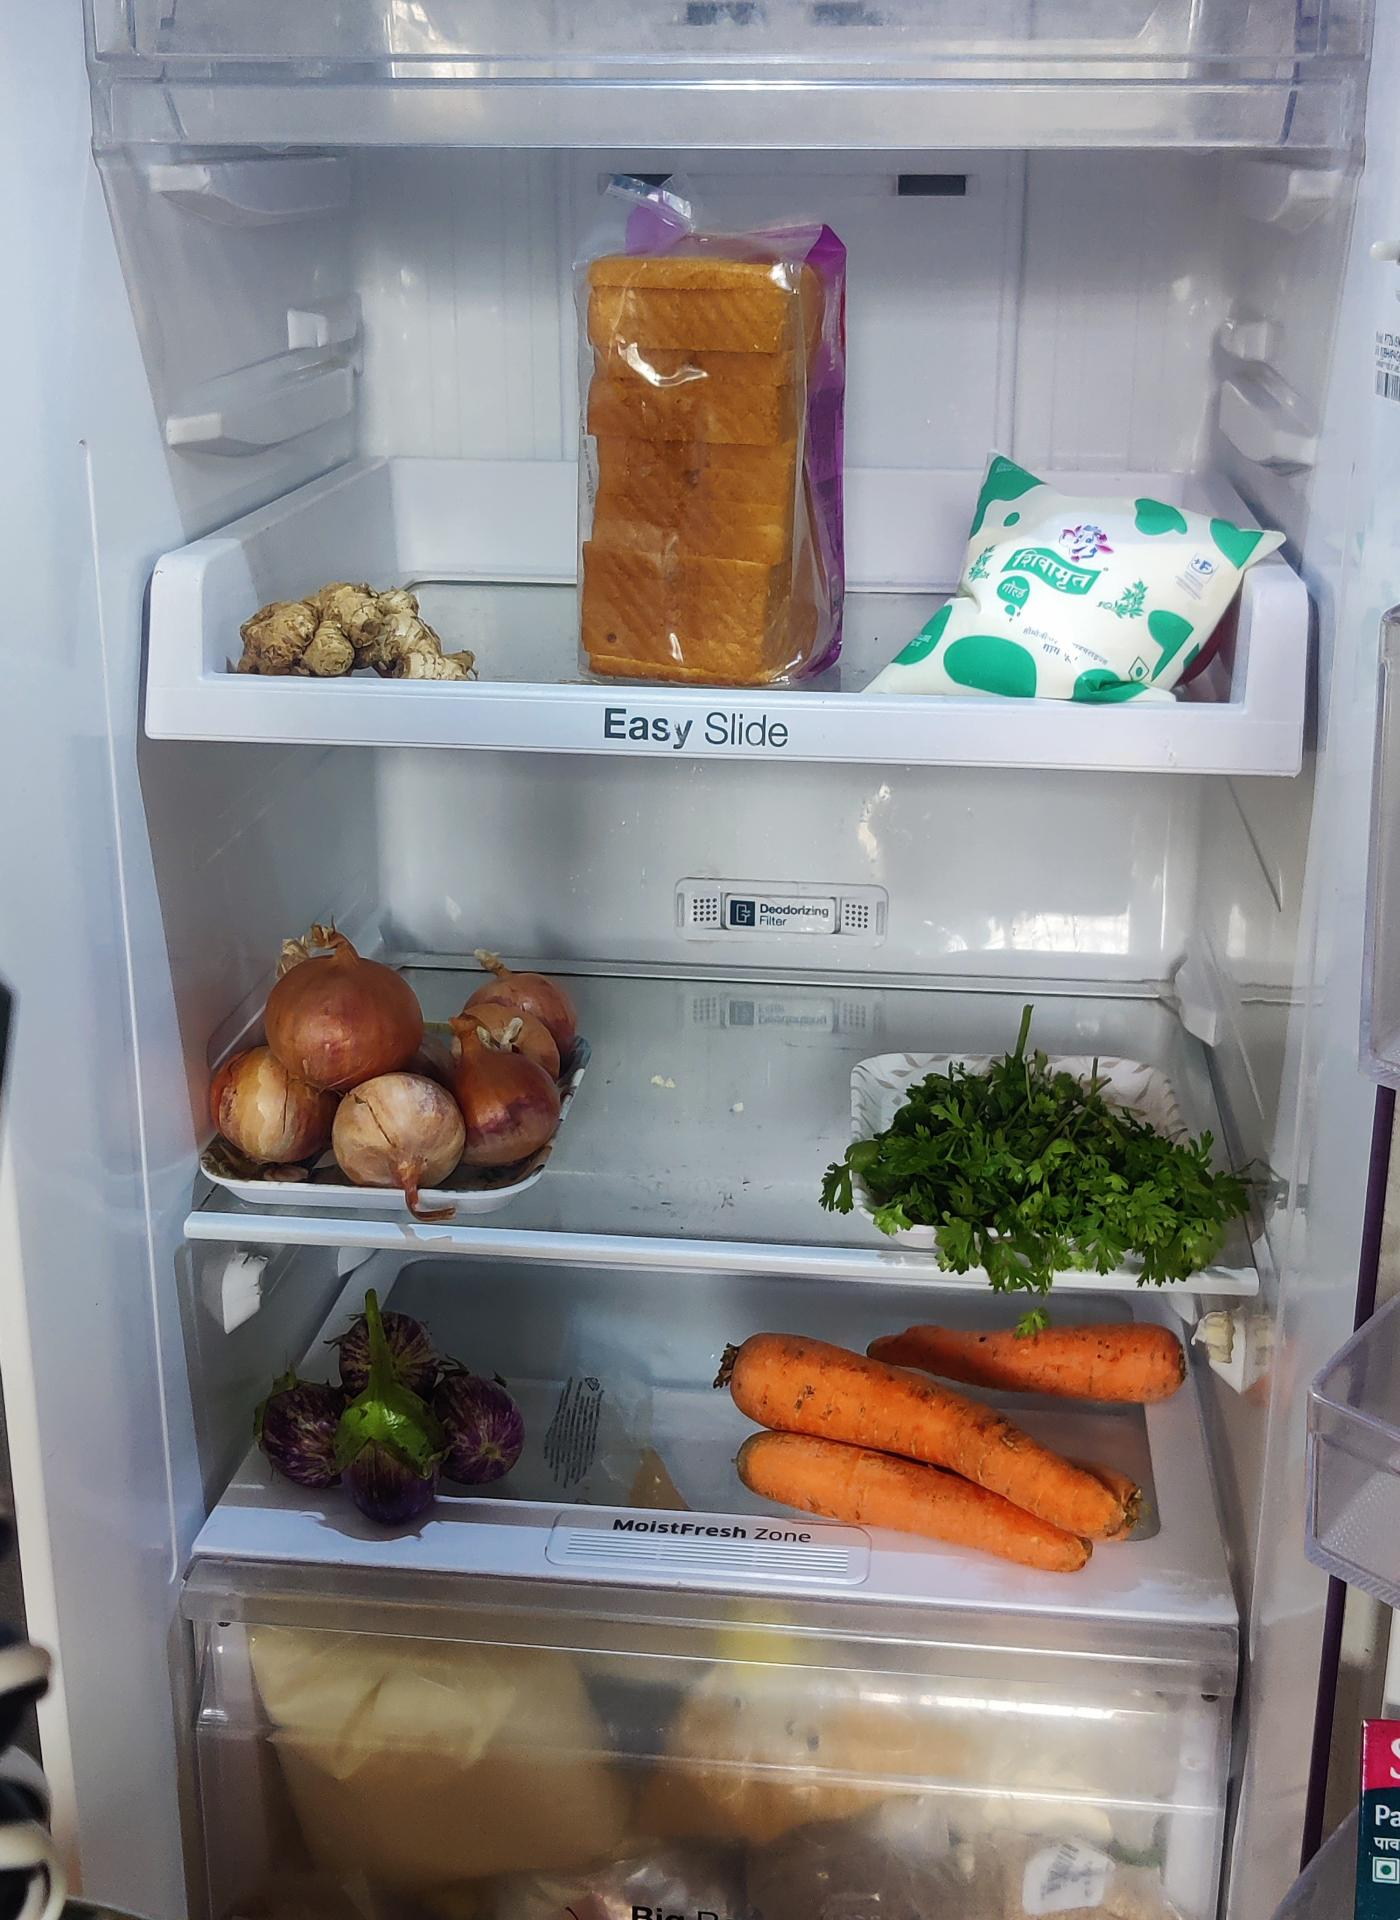bread: (567, 216, 853, 686)
brinjal: (249, 1292, 522, 1535)
carrots: (720, 1330, 1175, 1576)
coriander: (838, 1063, 1263, 1294)
ginger: (233, 575, 482, 684)
milk: (875, 455, 1282, 710)
onion: (207, 927, 586, 1190)
